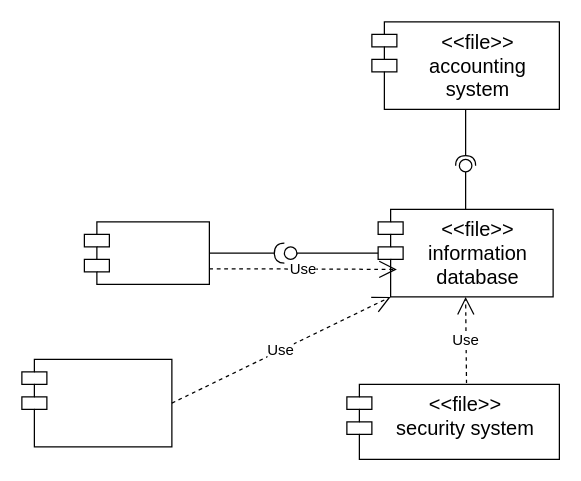
This 581x481 diagram has some shape labels left out. Here are the shapes that lost their labels. From the top down, the box of each, then its label:
(83, 221, 209, 284): <<file>> backup
(21, 358, 172, 447): <<file>> maintenance system
